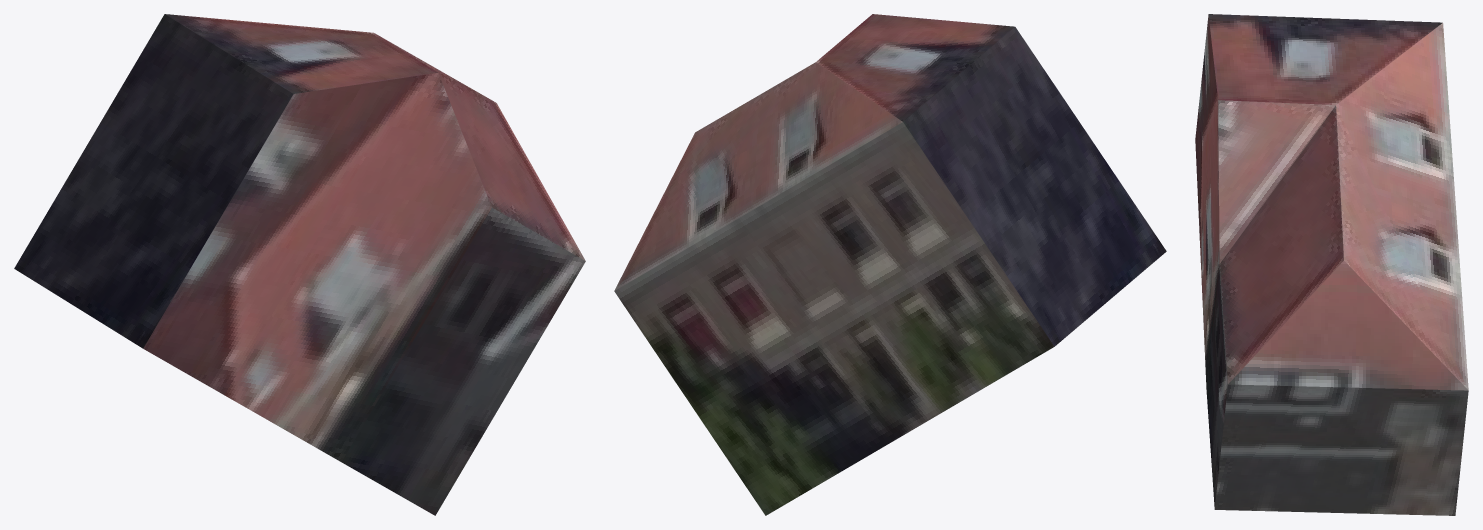
The picture shows the model from 3 angles, left to right: view 1: azimuth 30°, elevation 25°; view 2: azimuth 150°, elevation 25°; view 3: azimuth 270°, elevation 25°; orthographic projection. The views are drawn at different scales.
Parts seen in each view (by area): view 1: BAG_0599100000662434; view 2: BAG_0599100000662434; view 3: BAG_0599100000662434.
Part boxes in pixels (x1,y1,x2,y2): BAG_0599100000662434: (14, 14, 585, 515); BAG_0599100000662434: (614, 14, 1166, 515); BAG_0599100000662434: (1195, 14, 1468, 515).
Bounding box in the file's own units: 14.11 × 13.63 × 7.7.
Materials: 2 (1 with a texture image).
